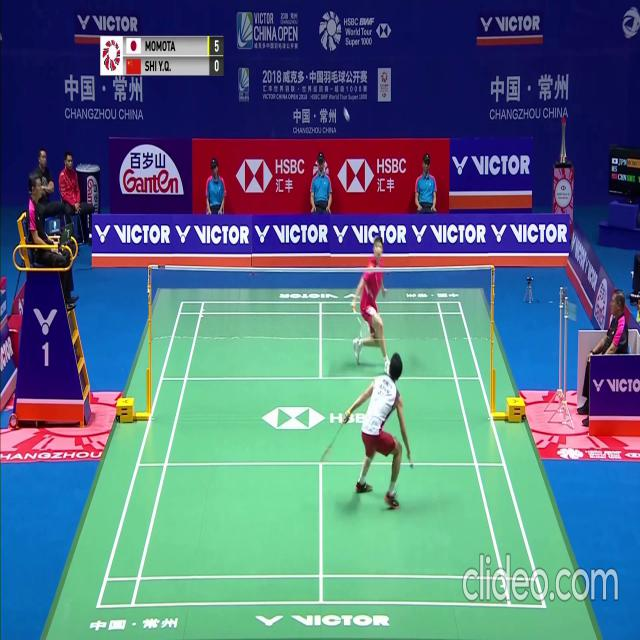Shuttlecock: (342, 107, 347, 115)
